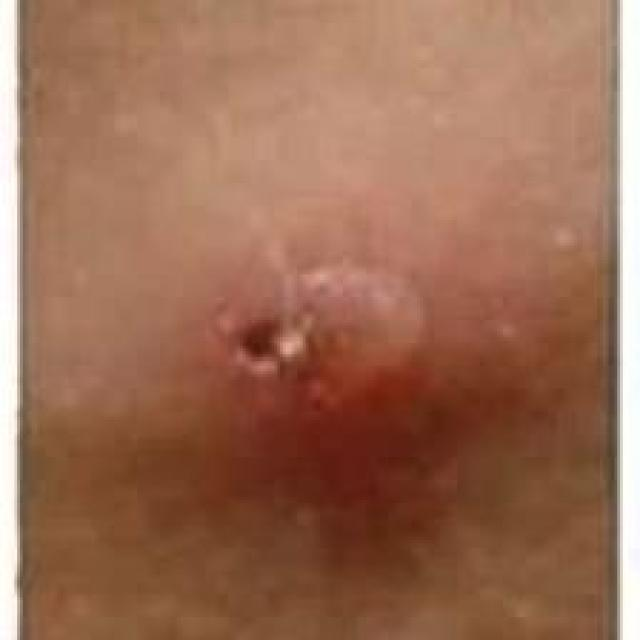others: (24, 0, 602, 626)
